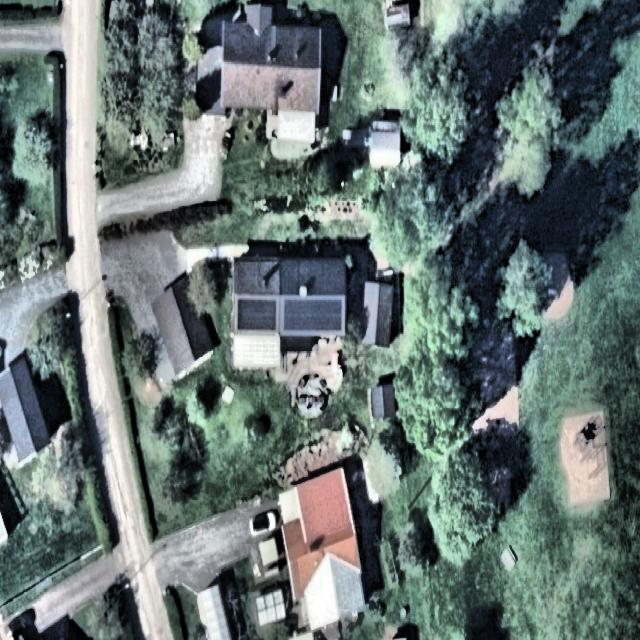roof_pv: (282, 299, 344, 334), (233, 298, 280, 337)
